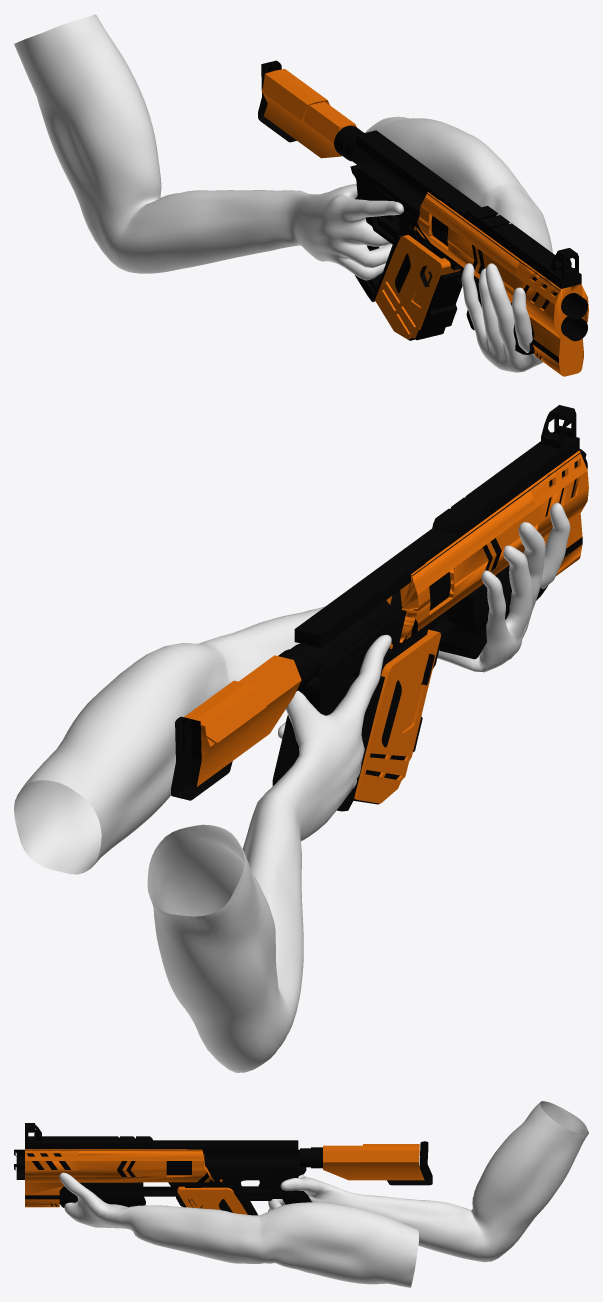
The model's file is SciFiShotgun_Anims.fbx.
The picture shows the model from 3 angles, top to bottom: view 1: azimuth 30°, elevation 25°; view 2: azimuth 150°, elevation 25°; view 3: azimuth 270°, elevation 25°; orthographic projection. The views are drawn at different scales.
Visible parts, largest first — view 1: Mid Poly Arm.001, Shotgun; view 2: Mid Poly Arm.001, Shotgun; view 3: Mid Poly Arm.001, Shotgun.
Boxes of the visible parts, x1,y1,x2,y2 form: Mid Poly Arm.001: (14, 14, 552, 372); Shotgun: (258, 60, 588, 376); Mid Poly Arm.001: (14, 502, 570, 1072); Shotgun: (171, 405, 588, 811); Mid Poly Arm.001: (59, 1101, 588, 1287); Shotgun: (14, 1123, 432, 1215).
Size of the model in its own units: 4889 by 3991 by 12596.
